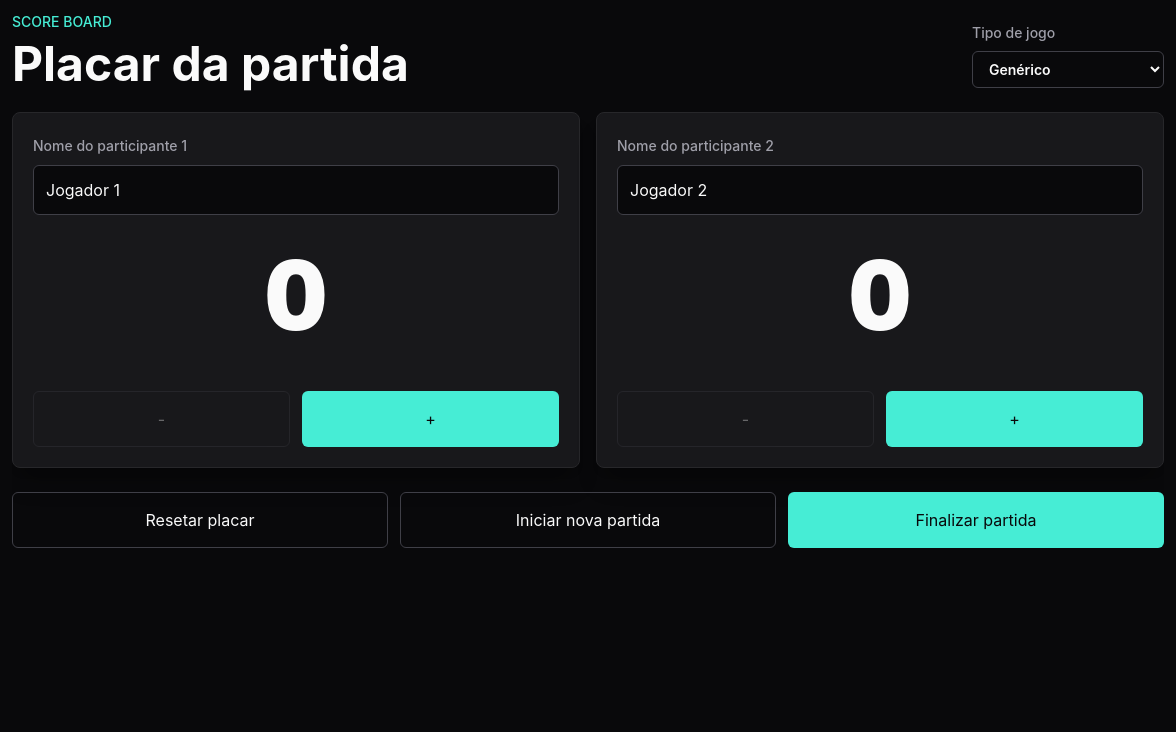
Test: Scoreboard › lets users select a game kind and start a new current scoreboard
Select "Truco" in the dropdown labelled "Tipo de jogo" at (1068, 70), box [972, 51, 1164, 88]
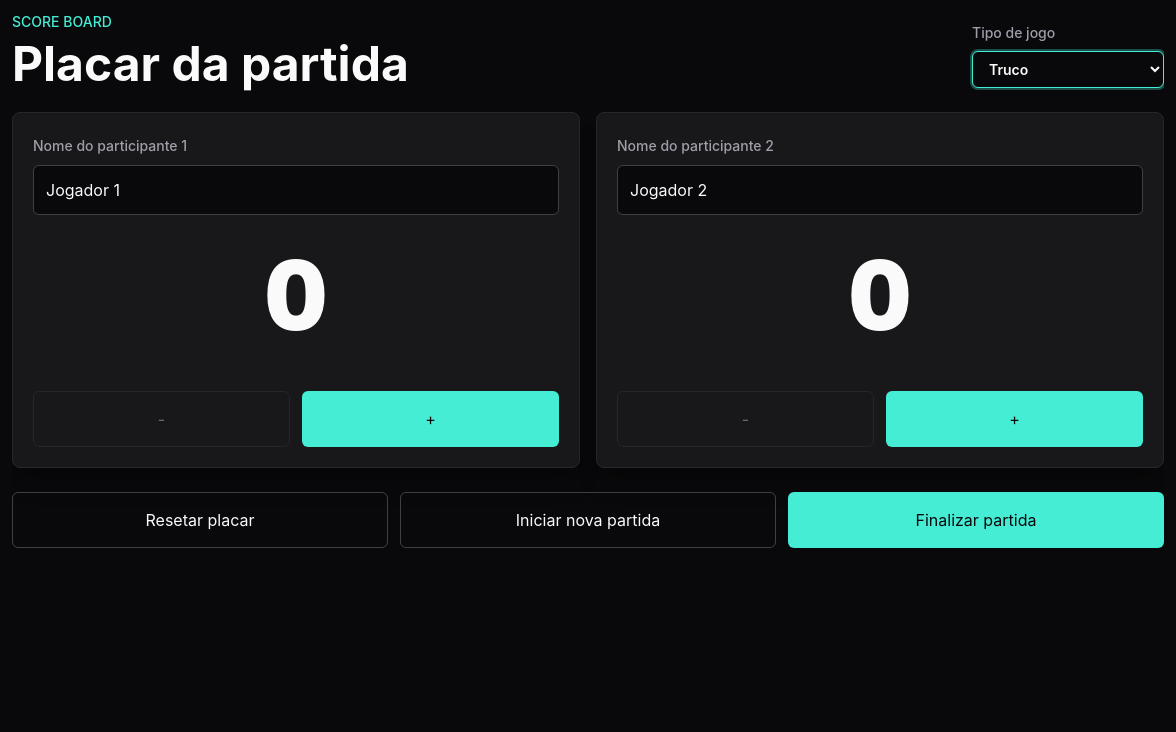
Replace the text in the field labelled "Nome do participante 1" with "Ana" at (296, 190), box [33, 165, 559, 215]
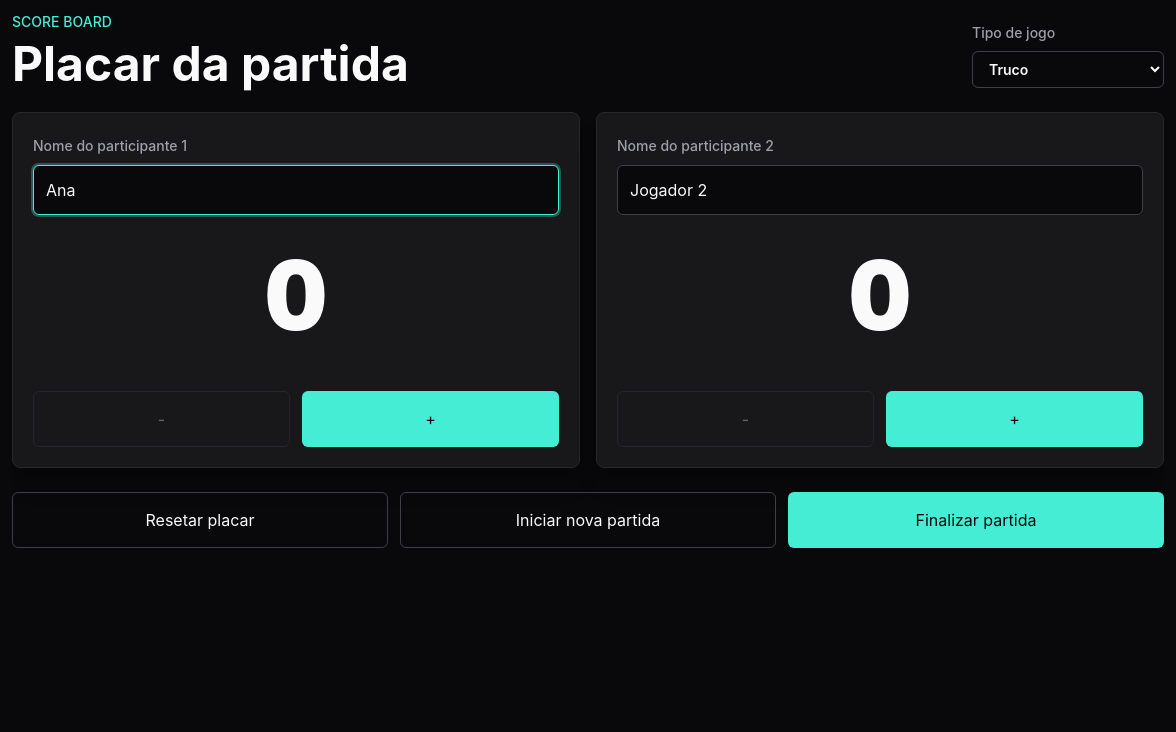
Click the button named "Adicionar ponto para Ana" at (430, 419), box [302, 391, 559, 447]
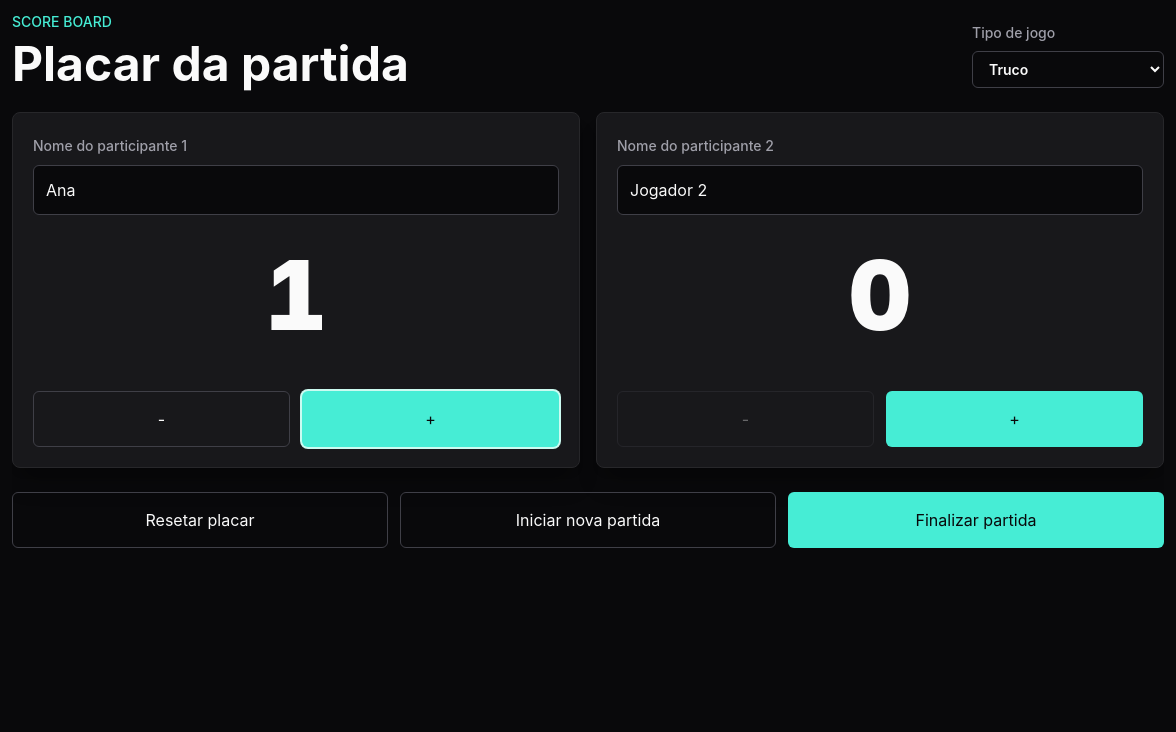
Click the button "Finalizar partida" at (976, 520), box [788, 492, 1164, 548]
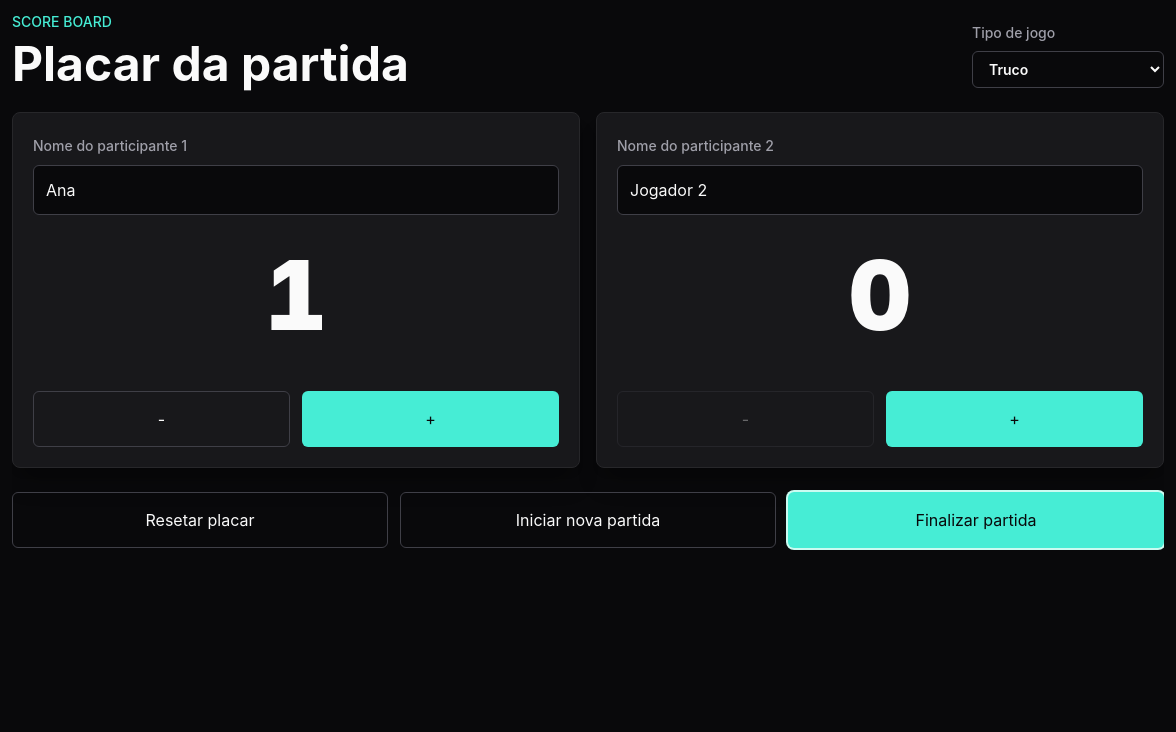
Click the button "Iniciar nova partida" at (588, 520), box [400, 492, 776, 548]
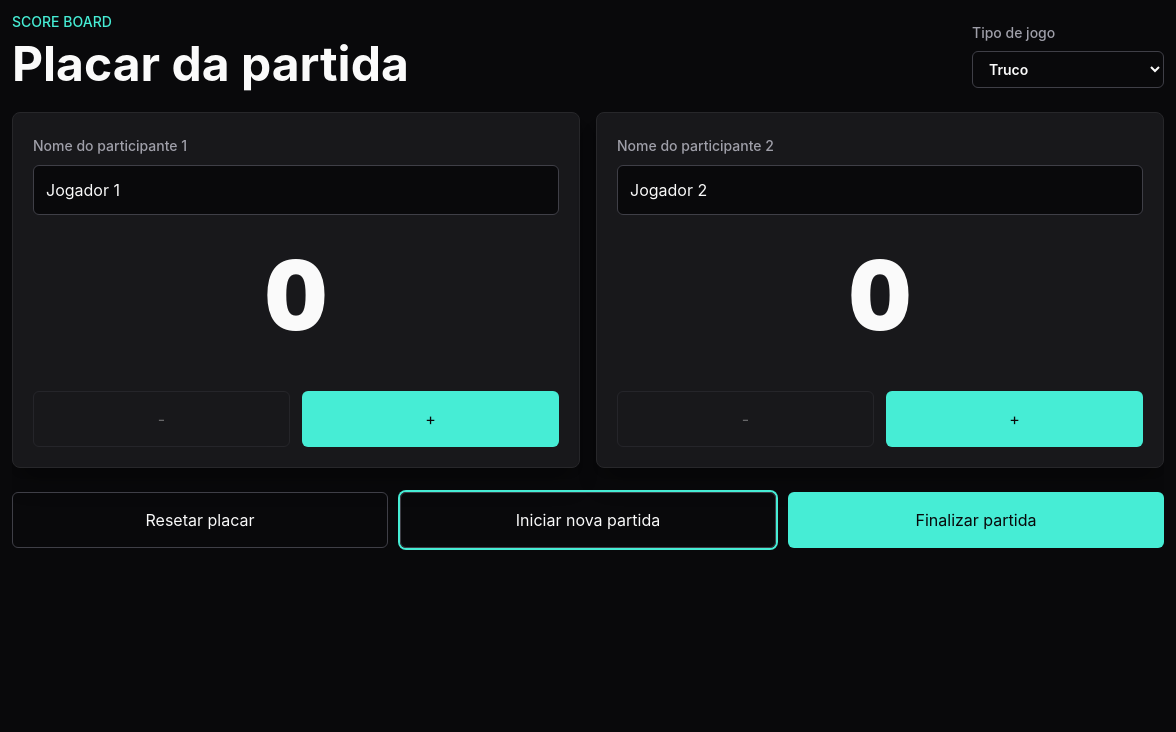
Expected: the field showing "Jogador 1" is shown, [33, 165, 559, 215]
Expected: the text named "Pontuação de Jogador 1" reads "0", [265, 237, 327, 353]
